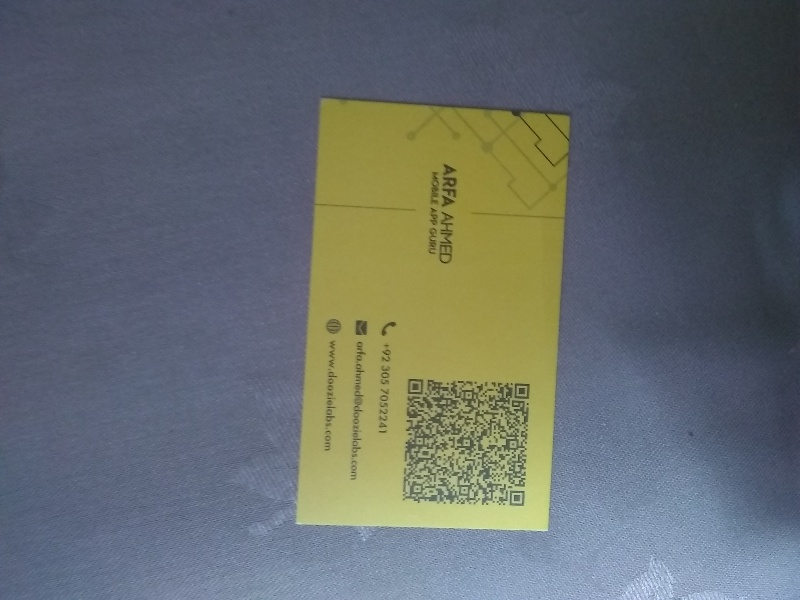front: (291, 90, 573, 535)
